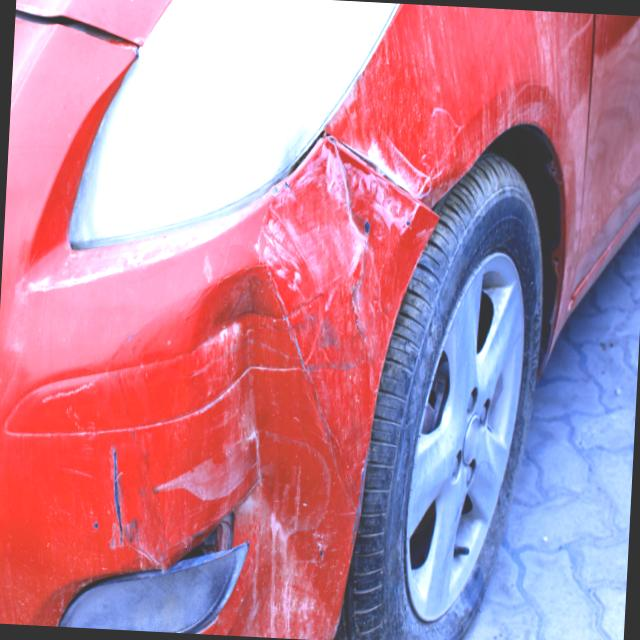Cabossage: (171, 270, 312, 538)
Dechirure: (139, 508, 240, 594), (333, 128, 417, 192)
Rayure: (157, 248, 396, 511), (252, 178, 422, 453), (28, 300, 157, 437), (235, 484, 338, 640), (82, 434, 146, 555)
